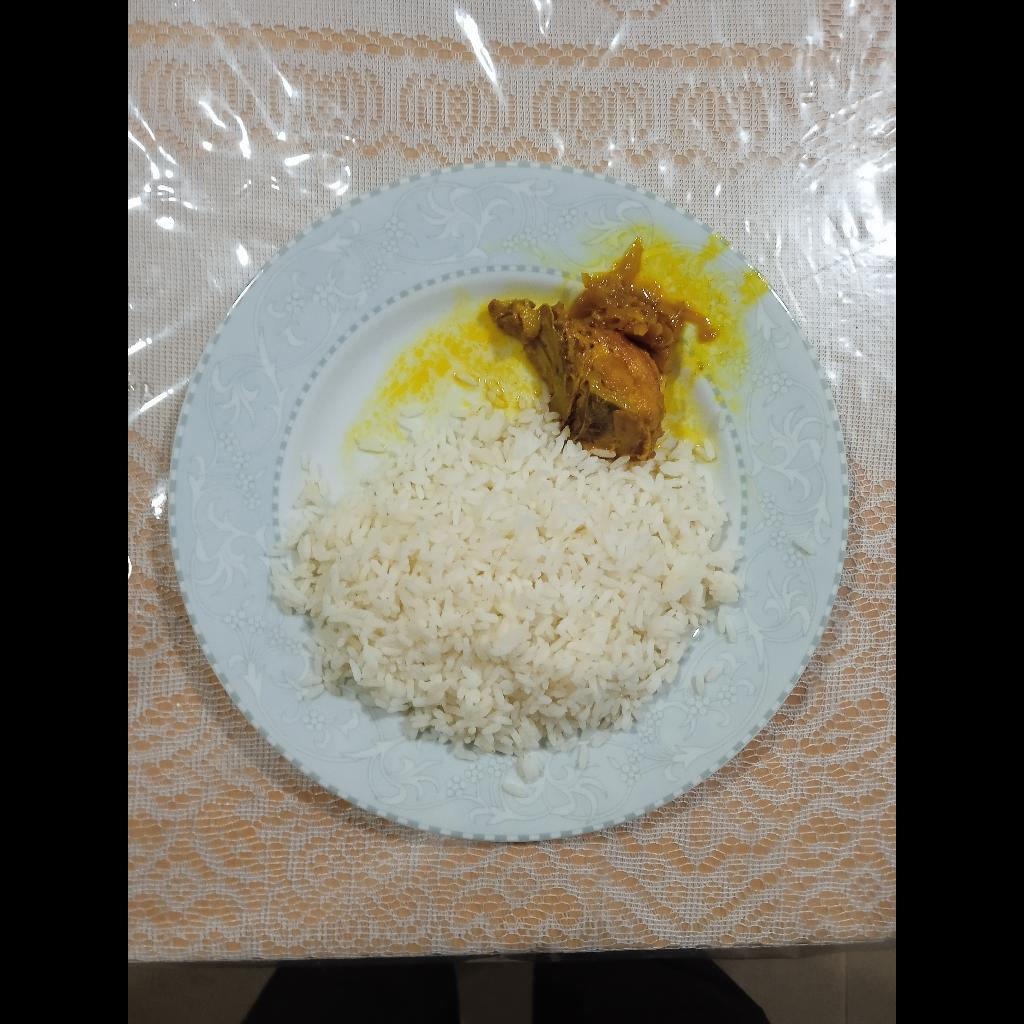chicken: (486, 298, 668, 459)
rice: (265, 408, 747, 788)
